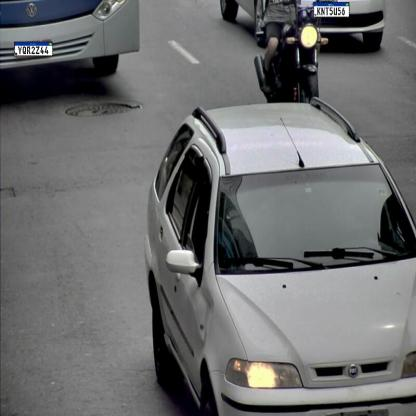PlacaM: (14, 42, 53, 56), (314, 2, 350, 17)
